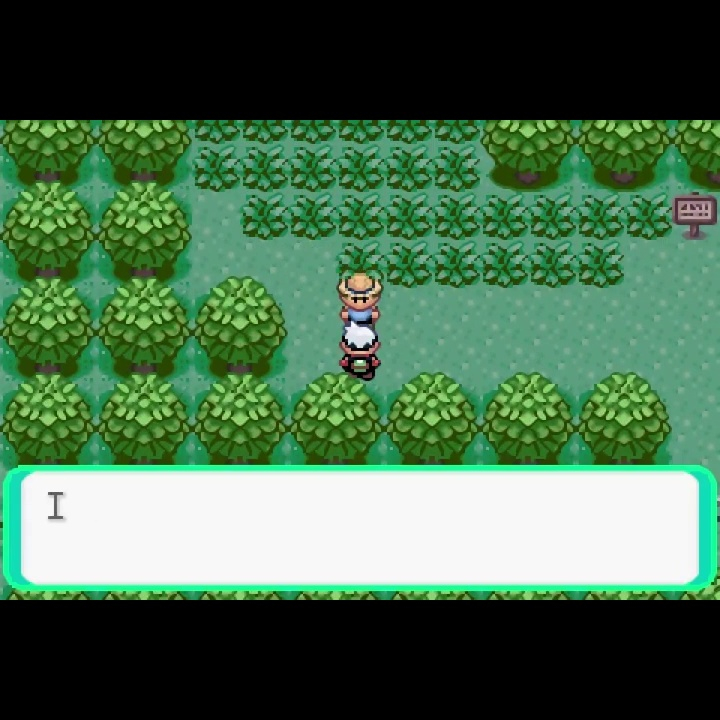grass: (481, 190, 530, 243), (528, 241, 578, 292), (384, 144, 434, 195), (433, 240, 482, 292), (336, 190, 384, 242), (336, 142, 384, 194), (433, 145, 483, 194), (239, 144, 287, 195), (190, 146, 242, 193), (481, 241, 529, 291), (241, 191, 289, 241), (434, 191, 482, 241), (289, 190, 336, 241), (386, 190, 433, 241), (387, 240, 433, 291), (577, 191, 623, 242), (529, 192, 575, 242), (626, 194, 673, 242), (289, 145, 337, 192), (579, 241, 624, 291), (334, 240, 387, 273), (433, 120, 484, 146), (191, 120, 241, 146), (289, 120, 338, 145), (385, 121, 433, 145), (242, 120, 288, 145), (338, 121, 385, 144)
npc: (335, 320, 382, 382), (336, 271, 386, 327)
wall: (97, 181, 192, 285), (1, 181, 97, 282), (98, 280, 194, 380), (1, 279, 96, 380), (193, 279, 290, 375), (386, 372, 483, 465), (289, 373, 387, 465), (192, 373, 289, 465), (1, 374, 98, 465), (483, 372, 577, 465), (98, 373, 193, 465), (577, 373, 670, 465), (577, 120, 673, 196), (480, 120, 576, 195), (98, 120, 191, 188), (1, 120, 97, 183), (673, 119, 720, 194)
